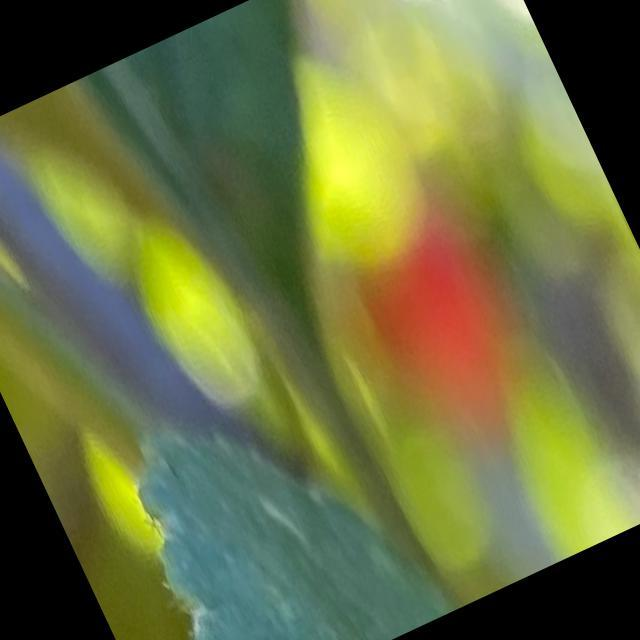100-_ripeness: (326, 180, 530, 430)
